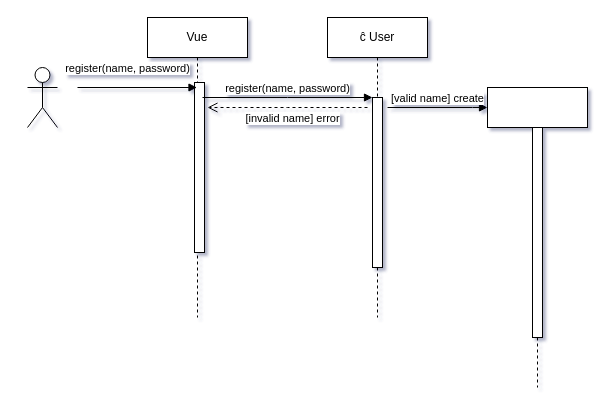
Some shapes in this 611 by 411 pixel diagram are drawn without their labels. Each missing label, with the box of its shape:
Anonyme: (26, 66, 58, 128)
User: (486, 86, 588, 388)
